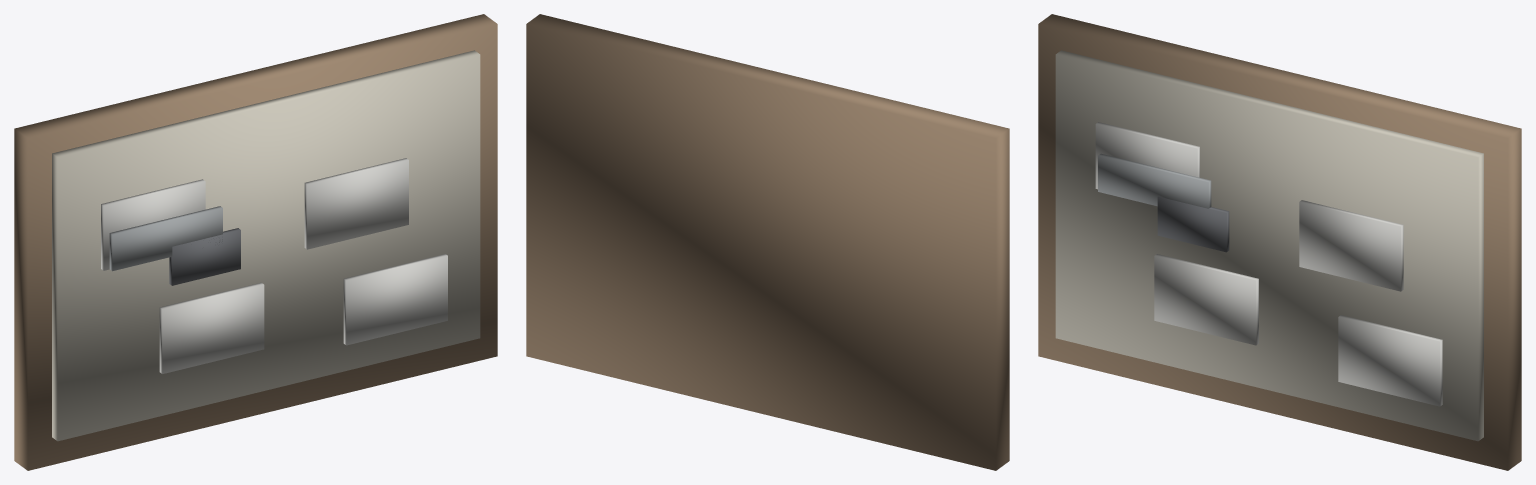
The model's file is headboard__weathered.glb.
3 renders of one model, left to right at view 1: azimuth 30°, elevation 25°; view 2: azimuth 150°, elevation 25°; view 3: azimuth 330°, elevation 25°, orthographic.
Parts seen in each view (by area): view 1: world; view 2: world; view 3: world.
Part boxes in pixels (left/top/right/bottom): world: left=14, top=14, right=497, bottom=470; world: left=526, top=14, right=1009, bottom=470; world: left=1038, top=14, right=1521, bottom=470.
Bounding box in the file's own units: 1.2 × 0.8118 × 0.115.
